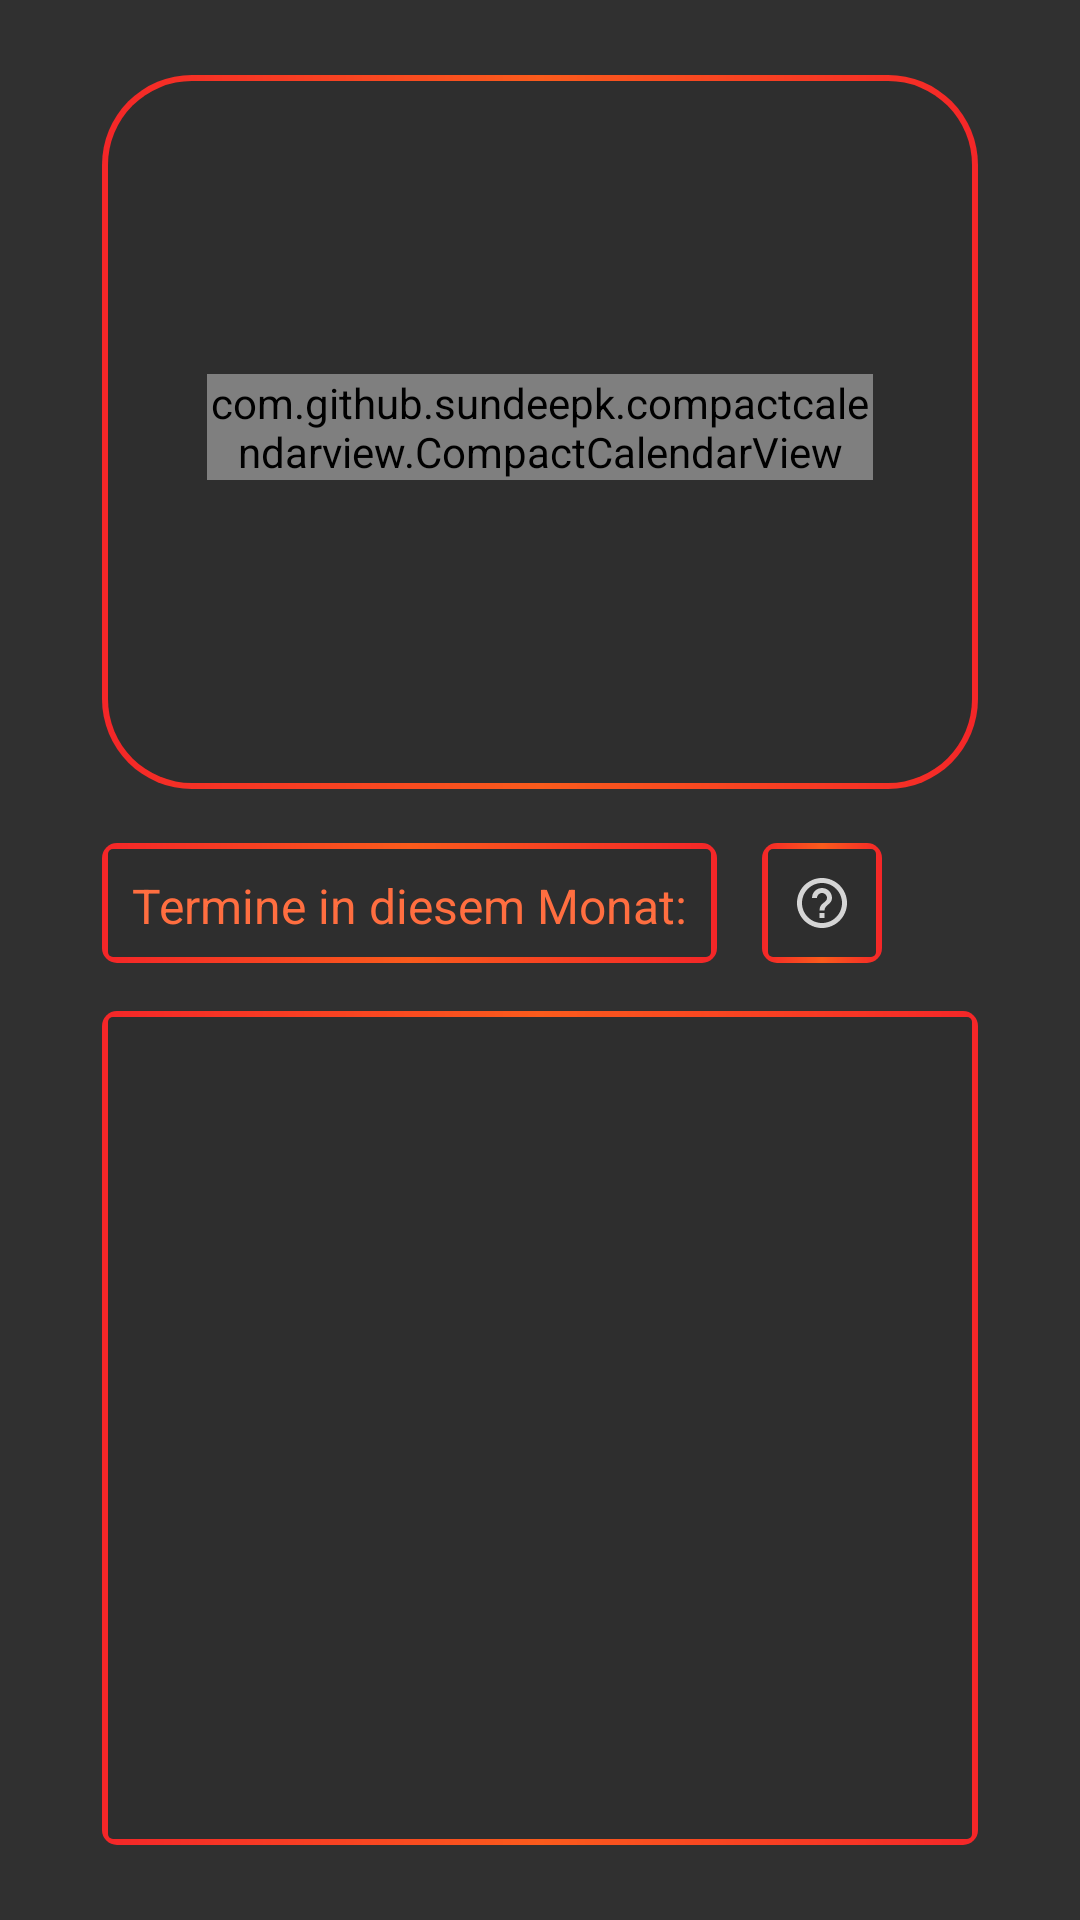

Where icons sit on this 1080x1920 app screen, as (x1, y1, x2, y2):
help: (762, 843, 882, 963)
